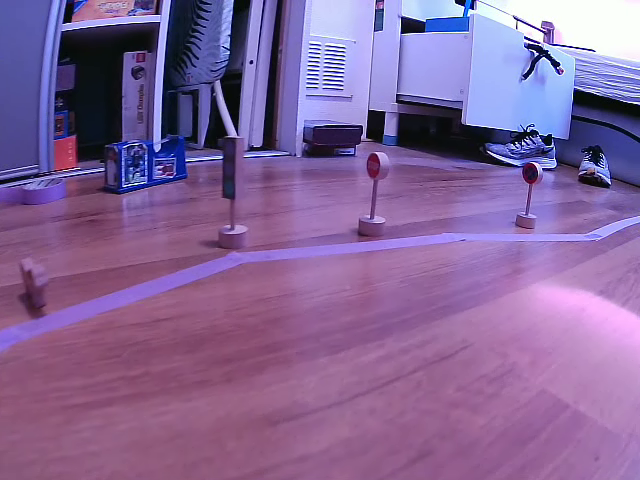groenlicht: (222, 137, 242, 202)
stopbord: (365, 153, 383, 183)
